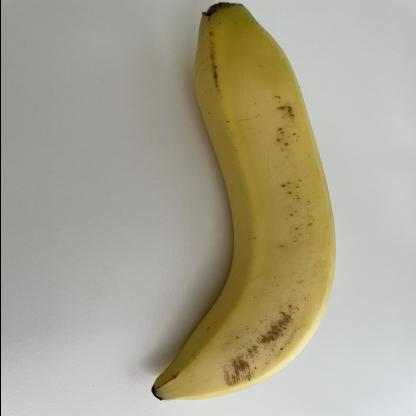banana: (146, 1, 338, 405)
